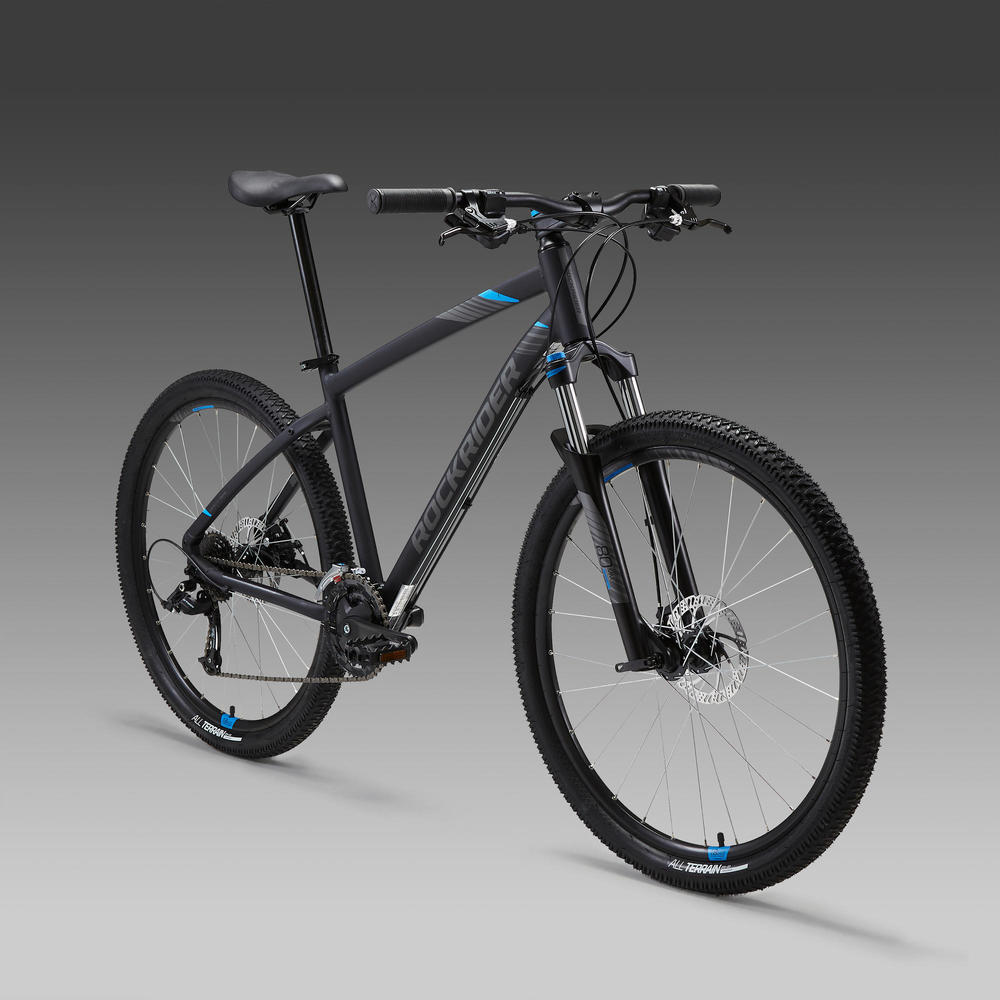MountainBike: (110, 166, 892, 898)
